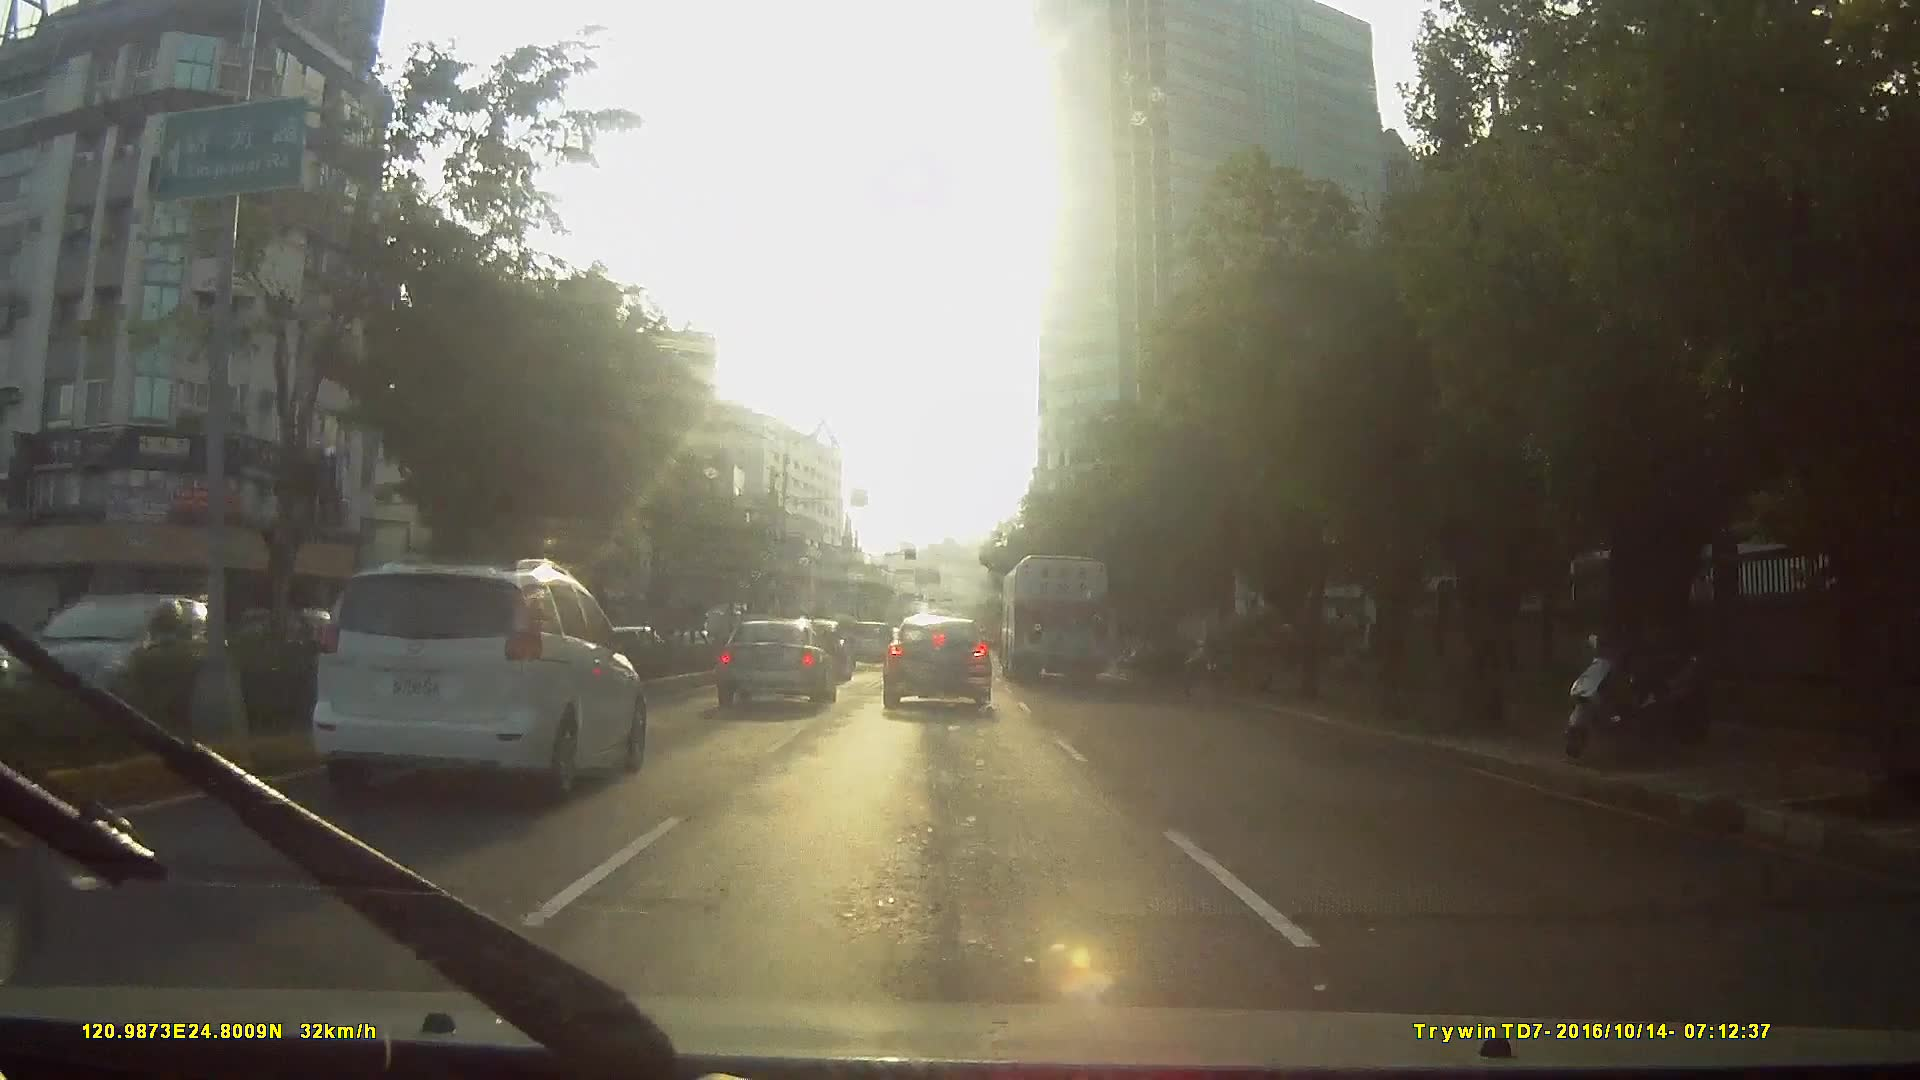vehicle: (251, 556, 684, 868), (301, 556, 645, 811), (7, 593, 236, 748), (1004, 551, 1113, 684), (880, 615, 993, 719), (713, 617, 837, 712), (847, 621, 895, 670)
